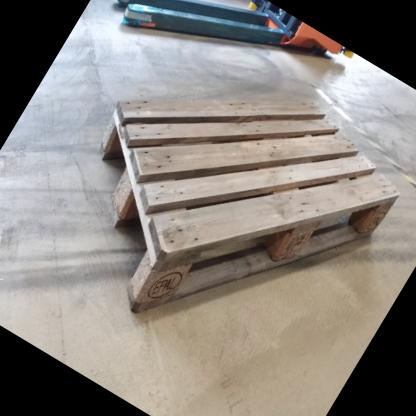BoxFace: (95, 94, 406, 324)
